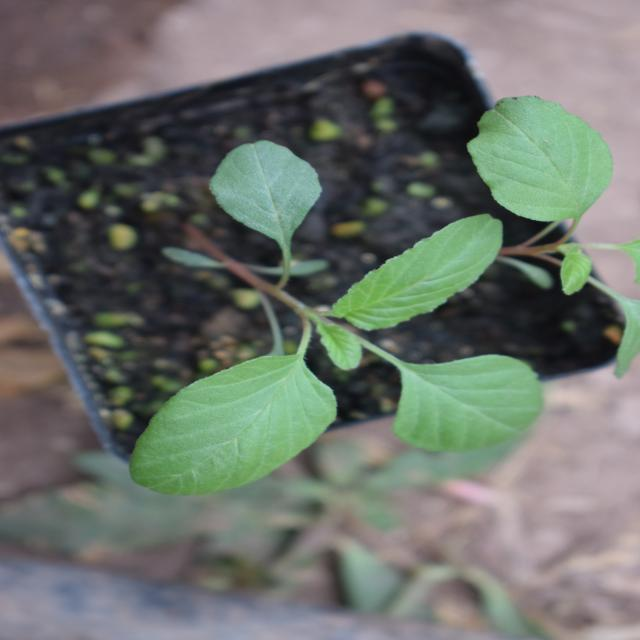pigweed: (177, 97, 499, 528)
